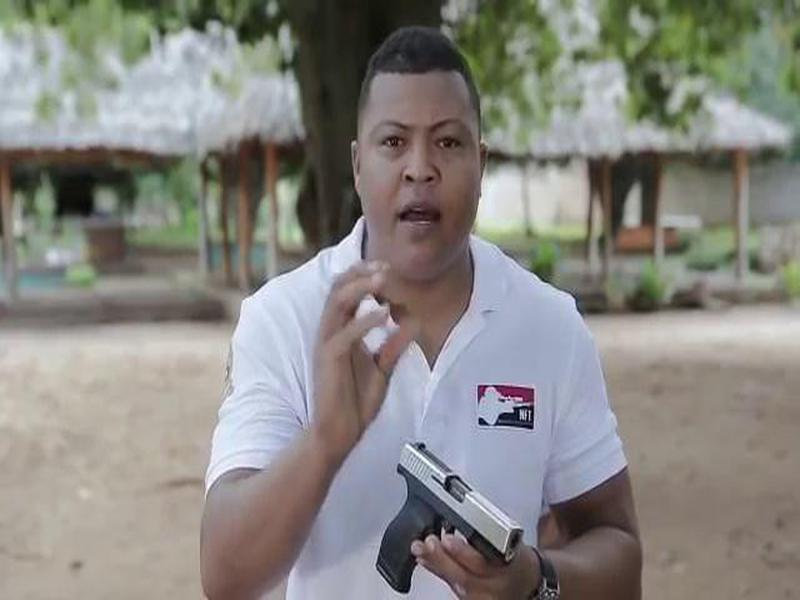Pistola: (370, 436, 529, 592)
